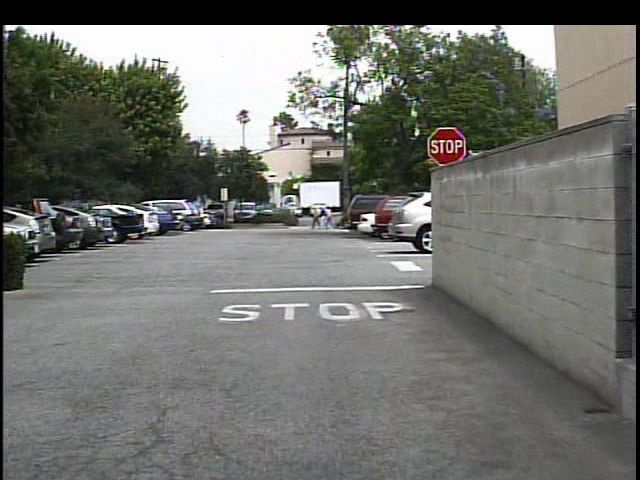person: (321, 205, 336, 233), (307, 205, 322, 232)
